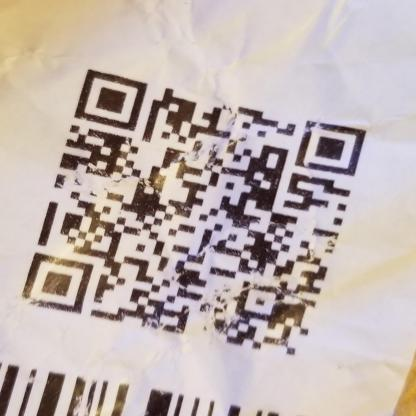barcode: (1, 357, 290, 416)
qr: (15, 61, 371, 357)
